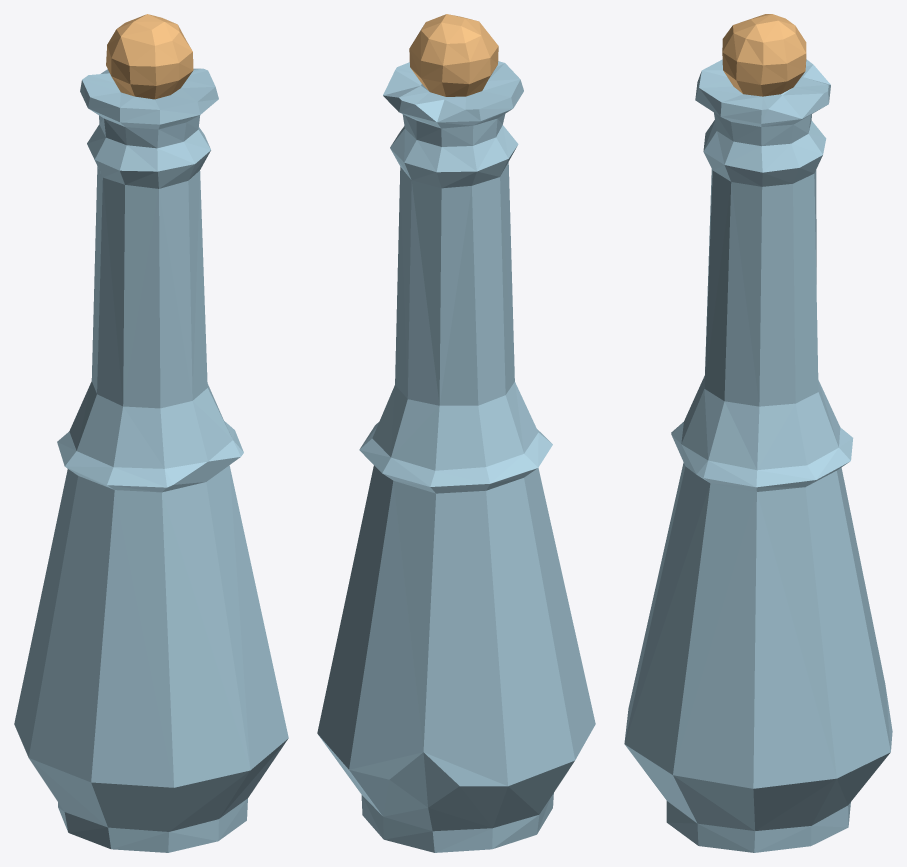
File: Poison_002.fbx
The picture shows the model from 3 angles, left to right: view 1: azimuth 30°, elevation 25°; view 2: azimuth 150°, elevation 25°; view 3: azimuth 270°, elevation 25°; orthographic projection.
Visible parts, largest first — view 1: Poison_002; view 2: Poison_002; view 3: Poison_002.
Boxes of the visible parts, x1=… form: Poison_002: x1=14, y1=14, x2=288, y2=852; Poison_002: x1=317, y1=14, x2=595, y2=852; Poison_002: x1=624, y1=14, x2=892, y2=852.
Size of the model in its own units: 0.1371 by 0.4314 by 0.1317.
